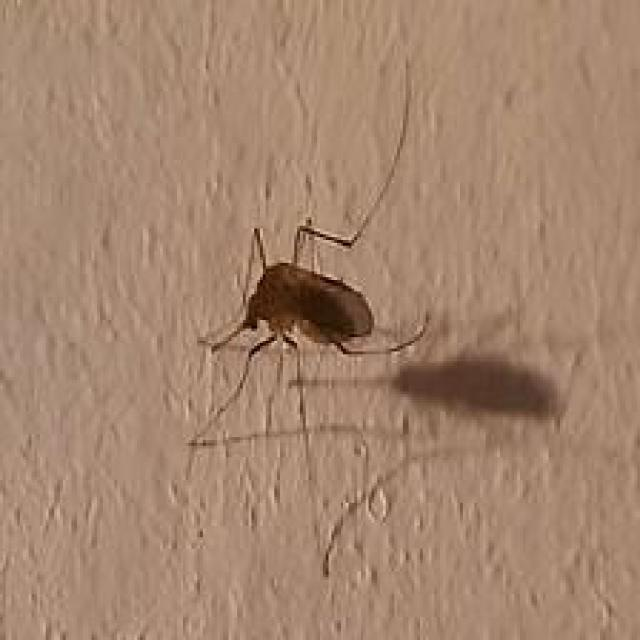Culex: (186, 54, 431, 460)
